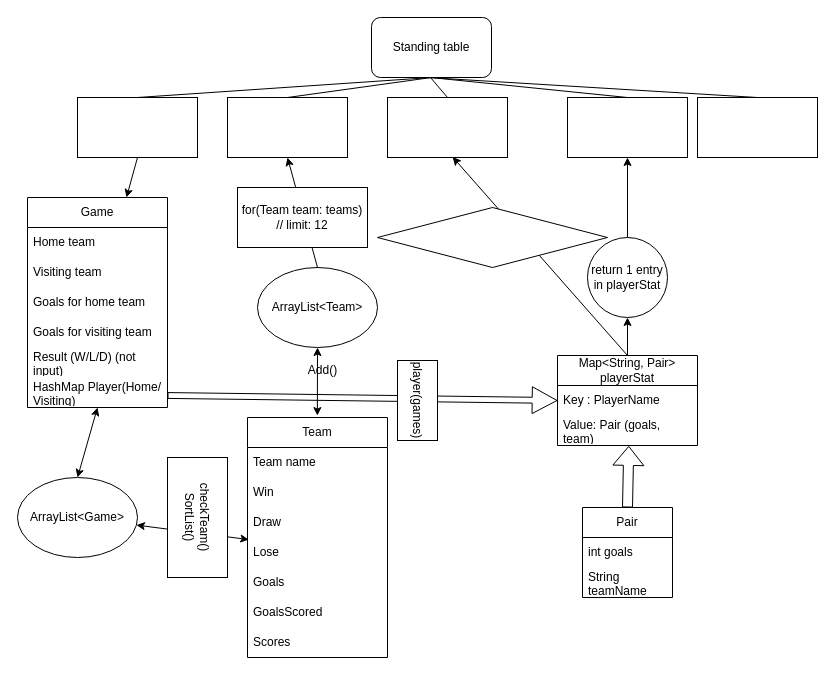
Image size: 835x675. Some labels were removed from this diagram. The centre of each missing label's shape, as x and y in pixels:
Add scores: the point at 137,127
Player standings: the point at 447,127
Print standings: the point at 287,127
Quit: the point at 757,127
Scorer standings: the point at 627,127
stream().sort().foreach(print()): the point at 492,237
